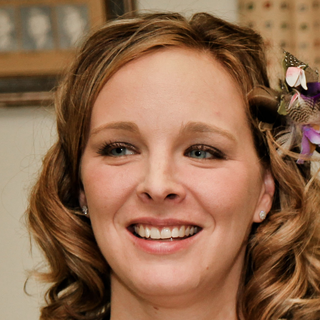eye: (176, 140, 227, 164), (97, 138, 142, 164)
